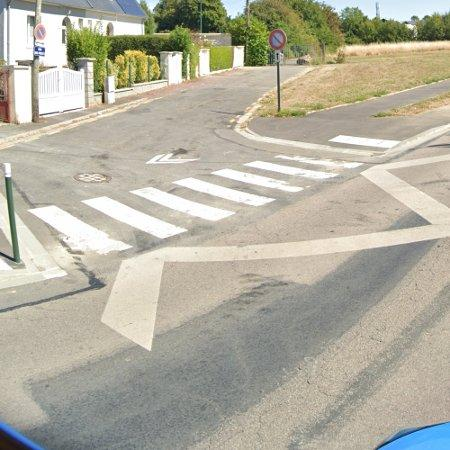crosswalks: (22, 138, 407, 251)
